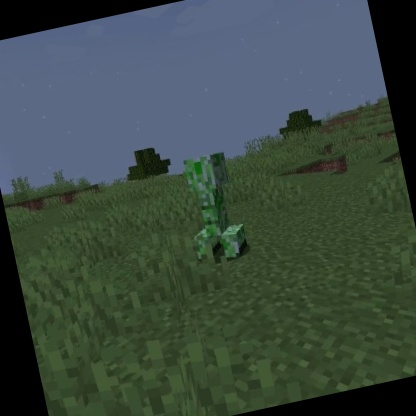creeper: (174, 148, 253, 270)
